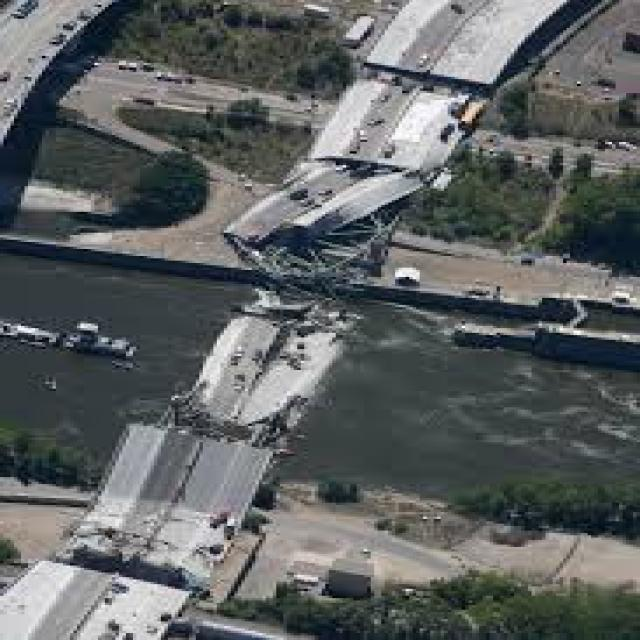bridge collapse: (0, 28, 563, 619)
